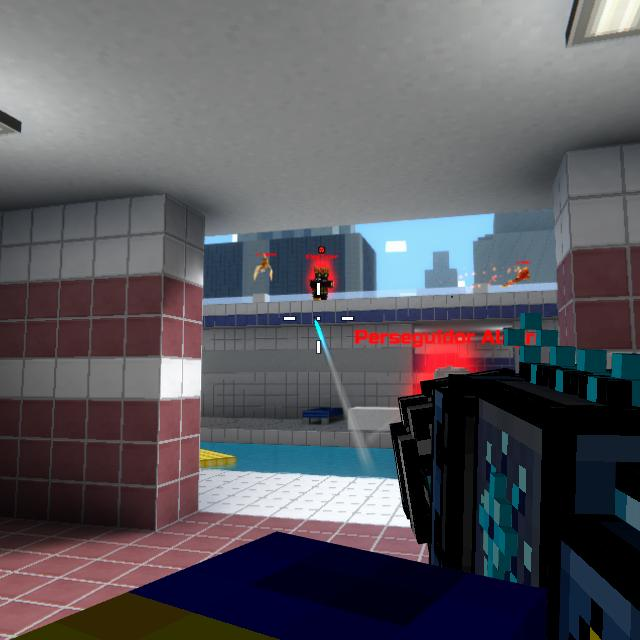Enemy: (420, 366, 471, 396), (309, 267, 334, 300)
